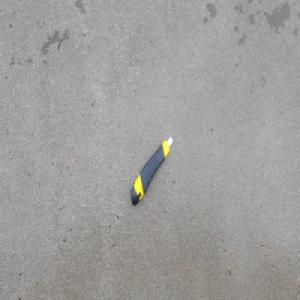Cutter: (130, 134, 174, 206)
